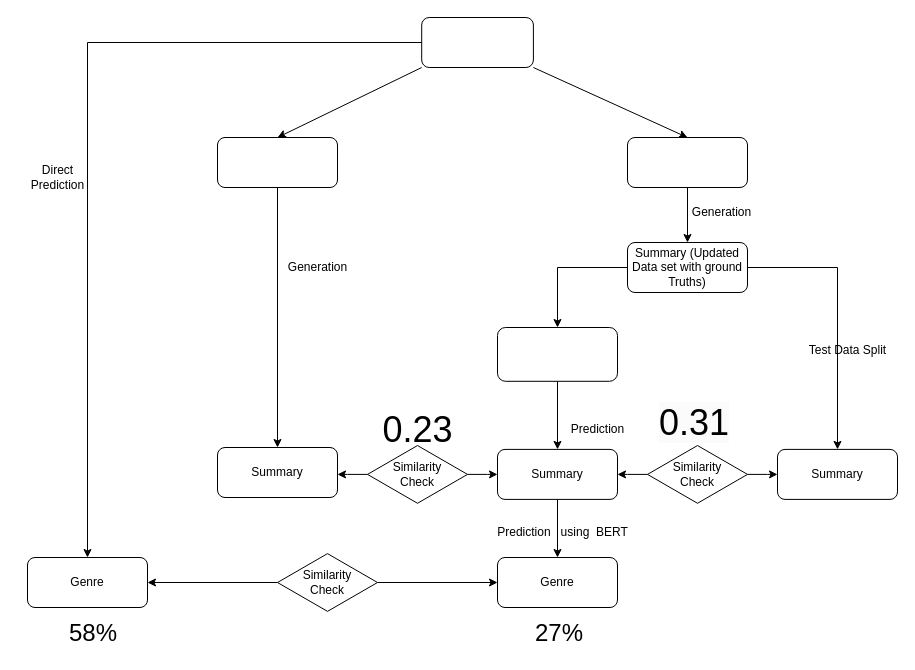
This 915x670 diagram has some shape labels left out. The centre of each missing label's shape, as x and y in pixels:
"CMU Data set" goes at pixel 477 42.
"Google Pagasus" goes at pixel 277 162.
"Model 1 LSTM" goes at pixel 557 353.
"Model 2 BART" goes at pixel 687 162.
